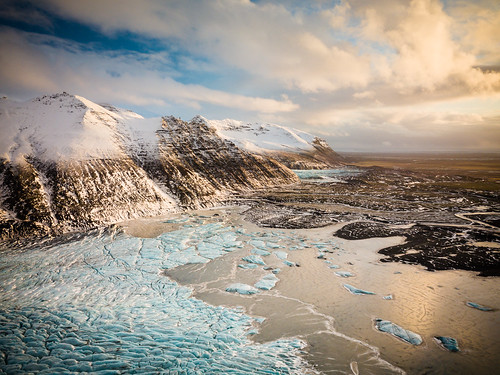mountain: (4, 76, 314, 136)
sky: (1, 1, 500, 122)
